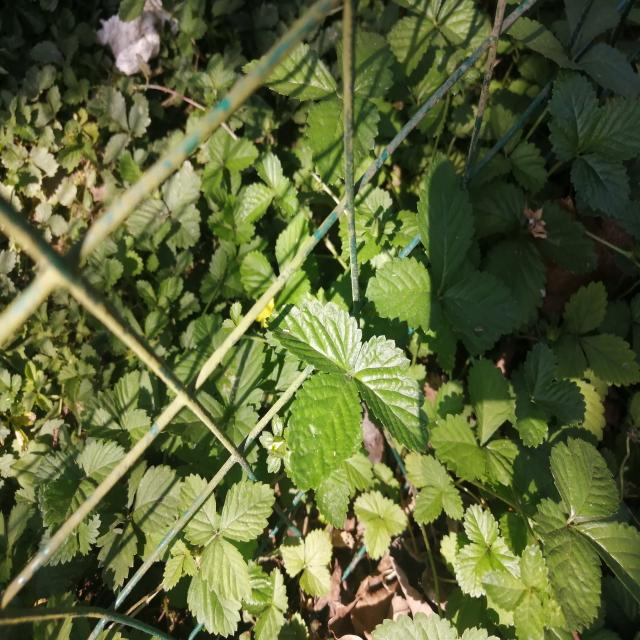Mock_strawberry: (280, 278, 442, 492)
